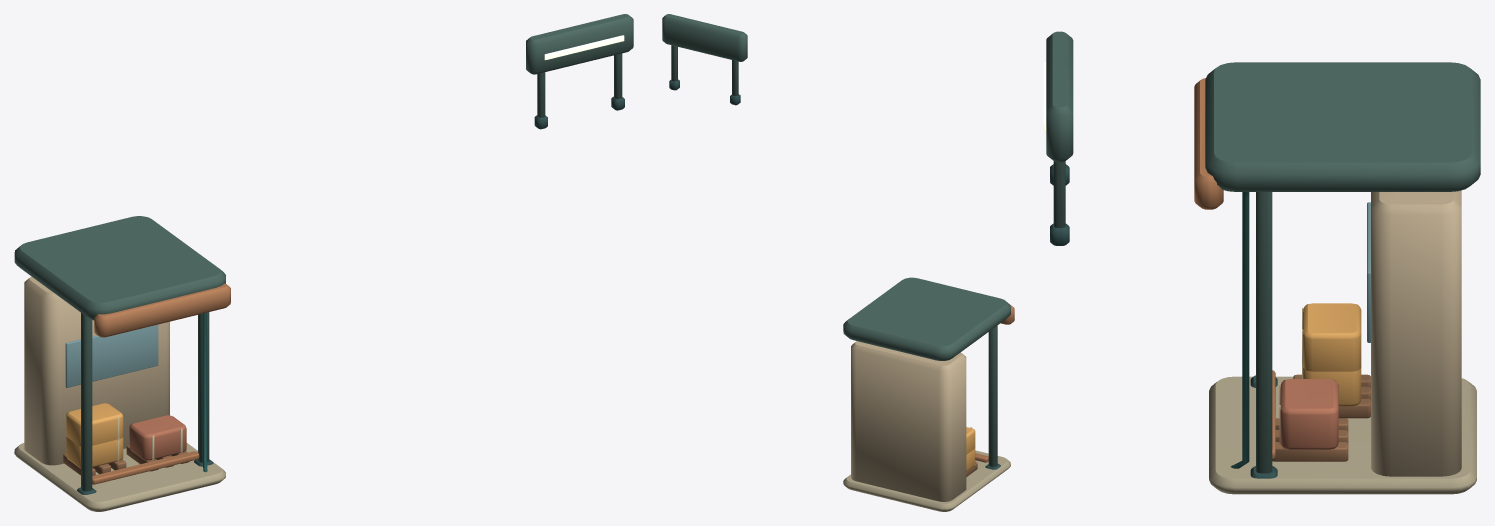
The model's file is wilderness_haulage_4.glb.
3 views of the same model, side by side, from view 1: azimuth 30°, elevation 25°; view 2: azimuth 150°, elevation 25°; view 3: azimuth 270°, elevation 25° (orthographic). The views are drawn at different scales.
Parts seen in each view (by area): view 1: WildernessHaulage4; view 2: WildernessHaulage4; view 3: WildernessHaulage4.
Boxes of the visible parts, <box> form: WildernessHaulage4: <box>14,14,633,511</box>; WildernessHaulage4: <box>662,14,1014,511</box>; WildernessHaulage4: <box>1043,31,1480,494</box>.
Size of the model in its own units: 8.33 by 6.74 by 4.05.
